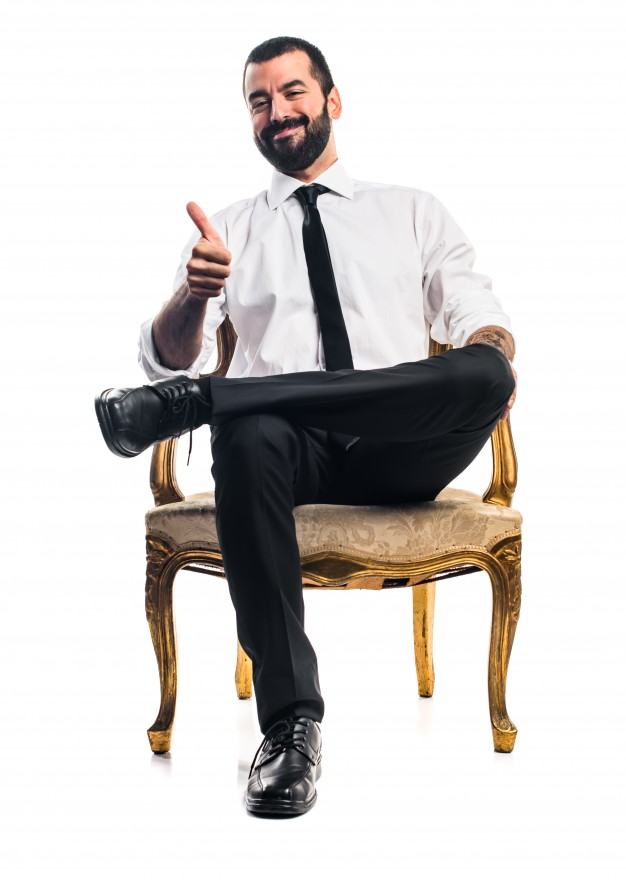thumbsup: (186, 201, 232, 297)
